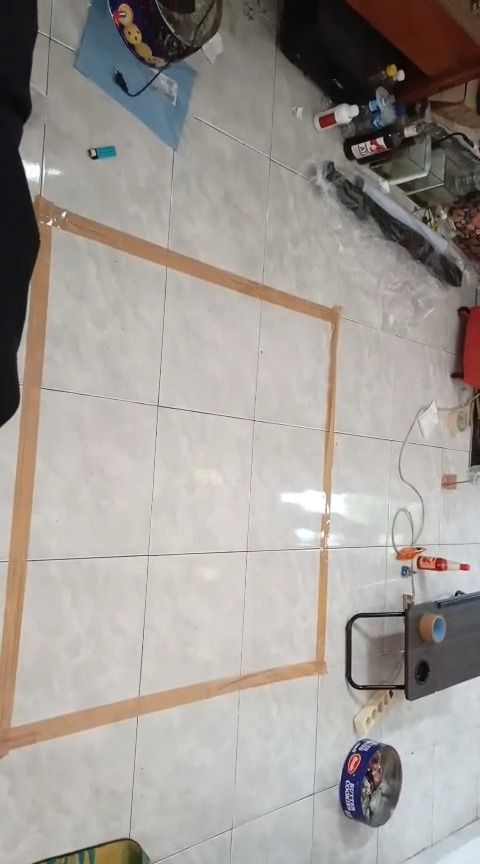floor marking: (0, 196, 340, 755)
